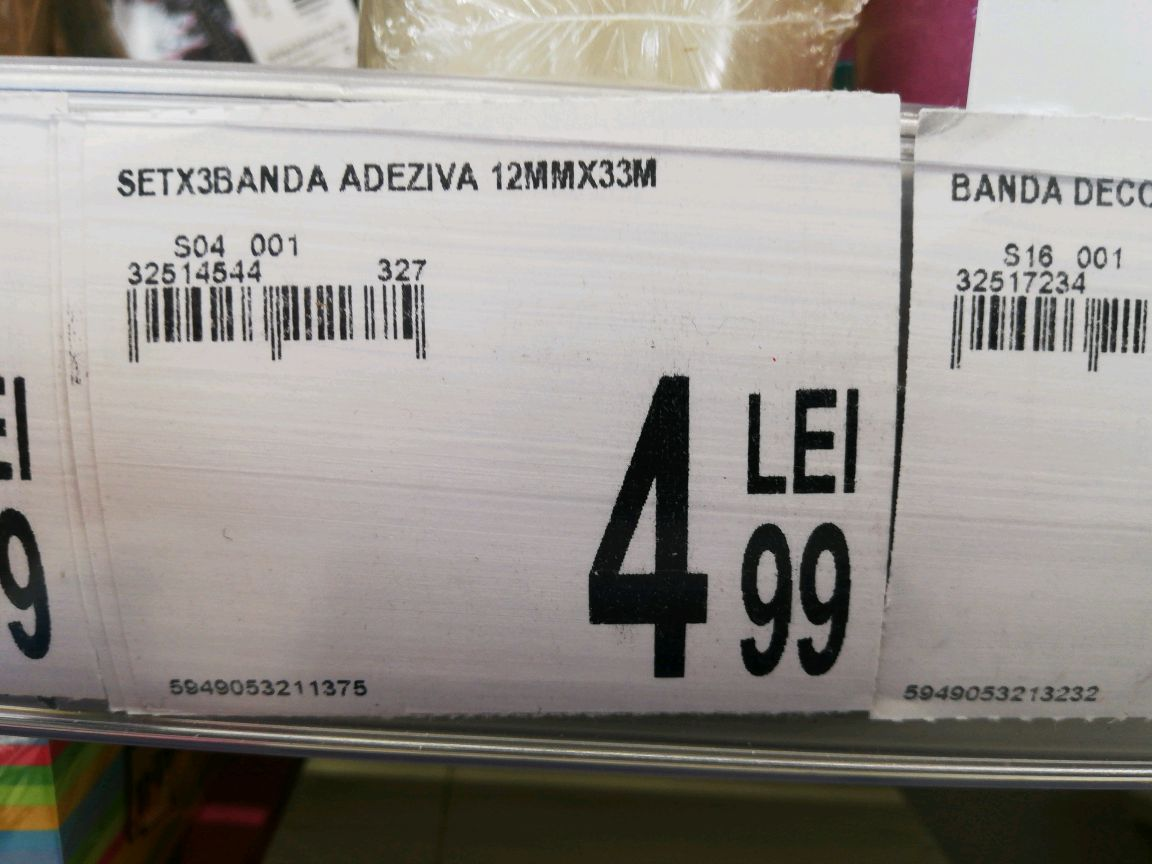price_bani: (722, 512, 865, 695)
price_lei: (578, 360, 715, 701)
price_tag: (55, 85, 903, 747)
product_id: (160, 670, 375, 705)
product_name: (105, 149, 670, 210)
